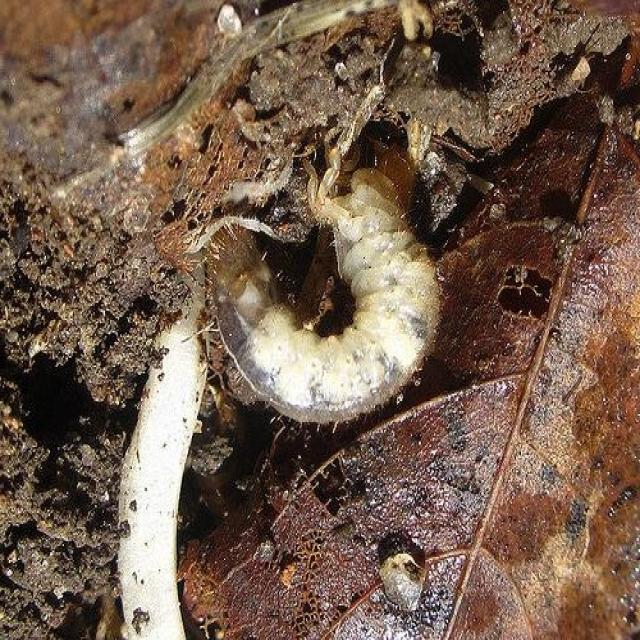grub: (193, 161, 439, 429)
